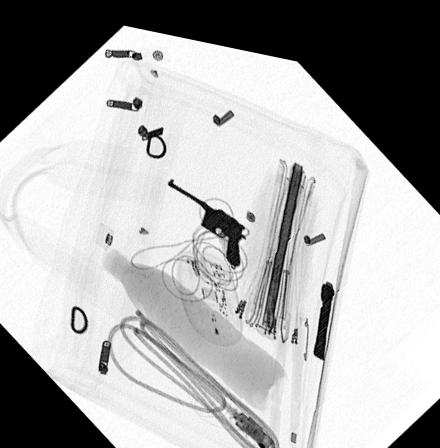Gun: (168, 171, 247, 256), (313, 265, 335, 346)
